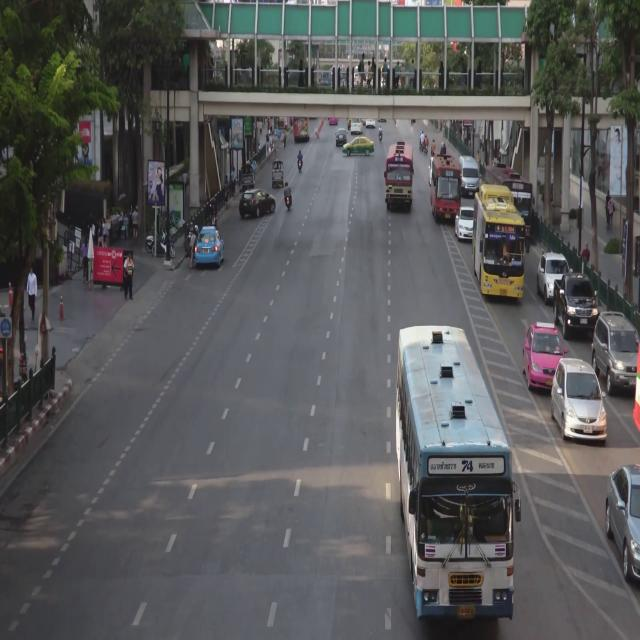bus: (399, 331, 514, 625), (475, 186, 523, 303), (485, 166, 530, 237), (386, 144, 412, 209), (433, 156, 459, 221), (293, 117, 309, 141)
car: (552, 359, 606, 443), (606, 463, 640, 581), (593, 313, 638, 389), (554, 274, 597, 337), (538, 253, 572, 302), (460, 155, 480, 198), (240, 192, 276, 215), (457, 208, 475, 239), (242, 165, 254, 189), (273, 162, 284, 187), (351, 118, 362, 135), (336, 129, 346, 144), (428, 156, 433, 184), (366, 119, 375, 128), (347, 119, 351, 130)
pedestrian: (28, 268, 38, 320), (124, 254, 133, 302), (83, 240, 89, 281), (581, 240, 590, 264), (608, 196, 614, 230), (101, 218, 107, 249), (605, 189, 610, 226), (123, 213, 130, 239), (132, 207, 138, 237), (231, 166, 236, 197), (98, 218, 103, 246), (182, 171, 188, 194), (225, 175, 229, 206), (269, 131, 273, 152), (253, 159, 257, 179), (266, 131, 269, 153), (283, 134, 286, 153)
taxi: (524, 323, 562, 388), (196, 226, 224, 266), (343, 137, 375, 156)
